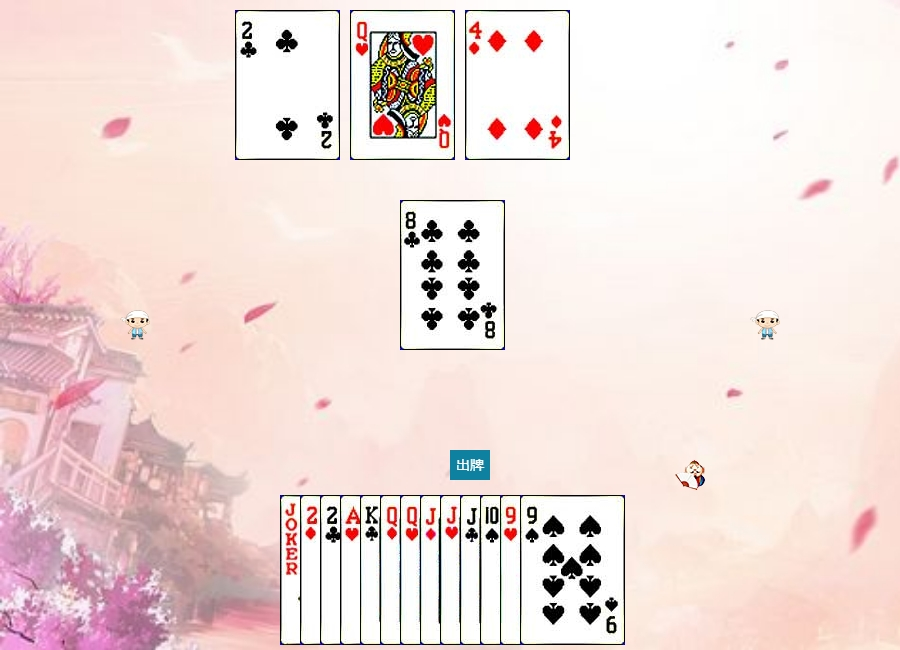10~4: (480, 495, 585, 645)
11~1: (420, 495, 525, 645)
11~2: (460, 495, 565, 645)
11~3: (440, 495, 545, 645)
12~1: (380, 495, 485, 645)
12~3: (350, 10, 455, 160), (400, 495, 505, 645)
13~2: (360, 495, 465, 645)
14~3: (340, 495, 445, 645)
15~1: (300, 495, 405, 645)
15~2: (235, 10, 340, 160), (320, 495, 425, 645)
18~4: (280, 495, 385, 645)
4~1: (465, 10, 570, 160)
8~2: (400, 200, 505, 350)
9~3: (500, 495, 605, 645)
9~4: (520, 495, 625, 645)
